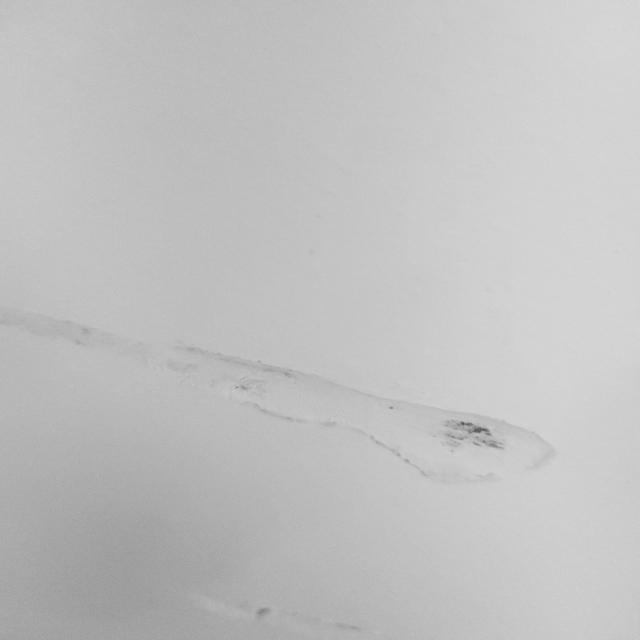rough and patchy surface: (9, 289, 569, 519)
